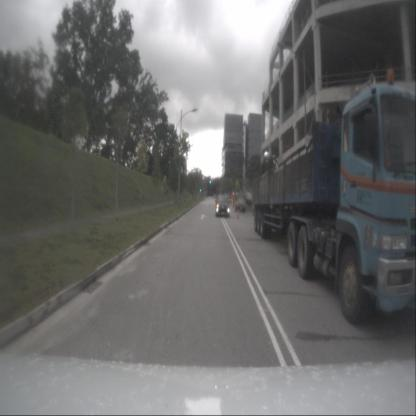movable_object-trafficcone: (237, 209, 240, 219)
vehicle-car: (216, 194, 230, 218)
vehicle-truck: (252, 67, 416, 325), (234, 192, 246, 212)
